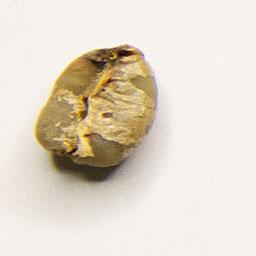defect: (28, 38, 164, 176)
